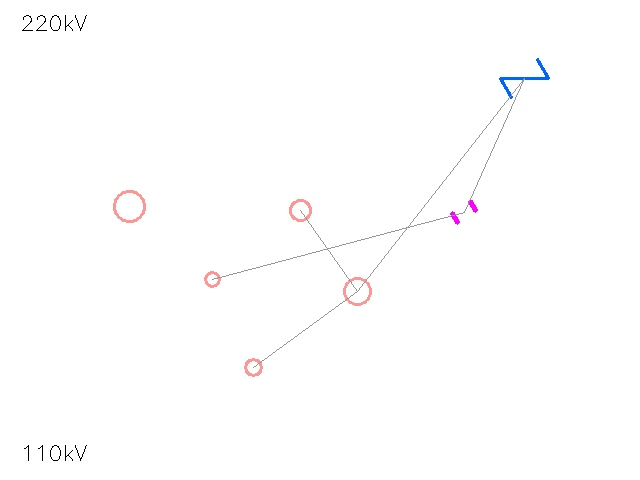capacitor: (446, 194, 482, 230)
circuit_breaker: (501, 55, 547, 101)
fuse: (197, 264, 227, 294)
reactor: (280, 190, 320, 230), (237, 351, 269, 383)
surge_arrester: (98, 175, 160, 237)
voltage_transformer: (331, 265, 383, 317)
